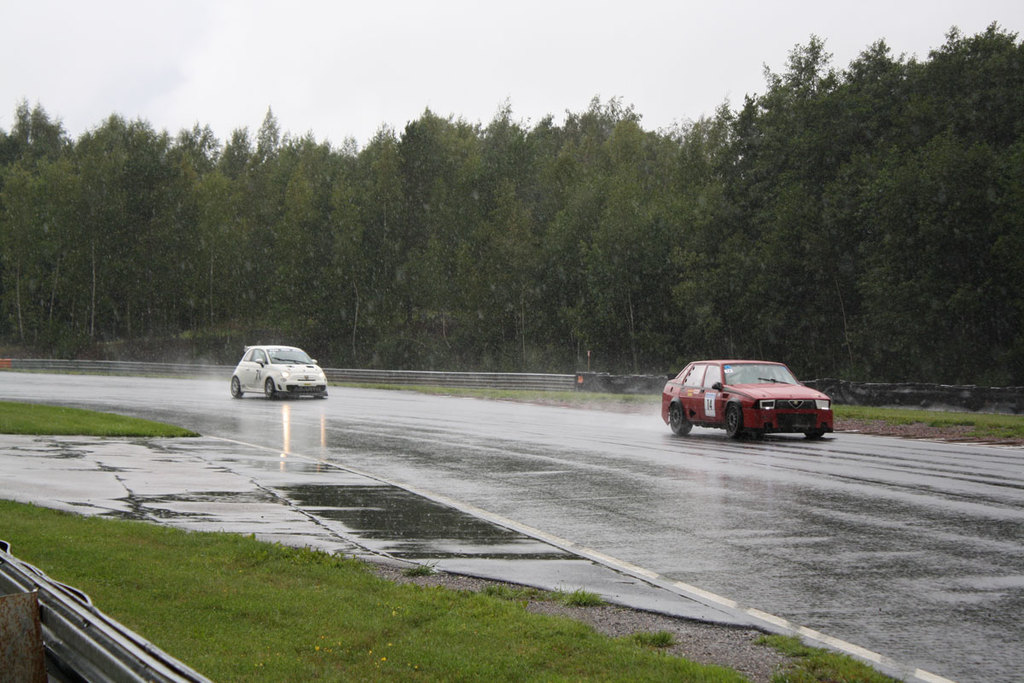cars: (655, 356, 843, 452), (229, 339, 330, 401)
